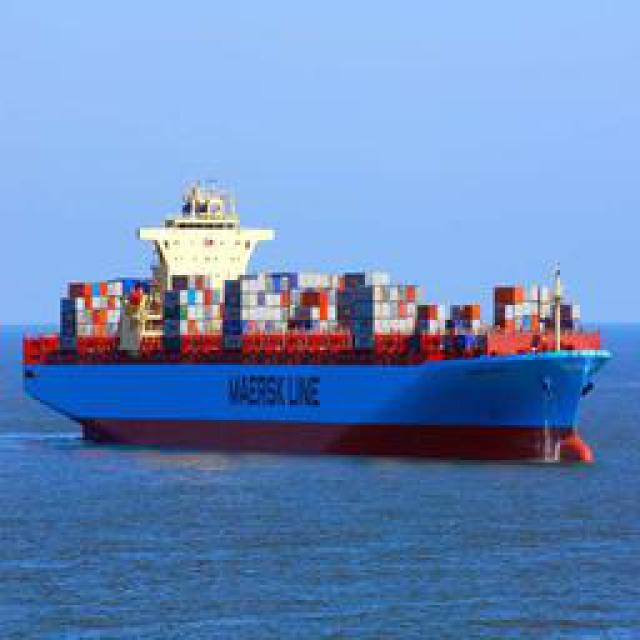Ship: (24, 189, 614, 462)
